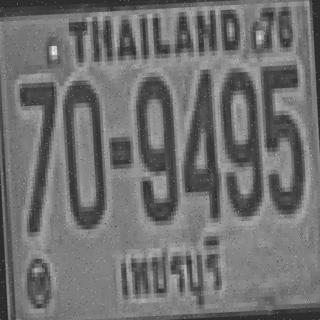N00: (58, 75, 105, 226)
N04: (176, 65, 220, 220)
N05: (260, 60, 304, 211)
N07: (16, 78, 61, 232)
N09: (132, 72, 176, 222), (218, 67, 262, 213)
P44: (106, 228, 231, 313)
